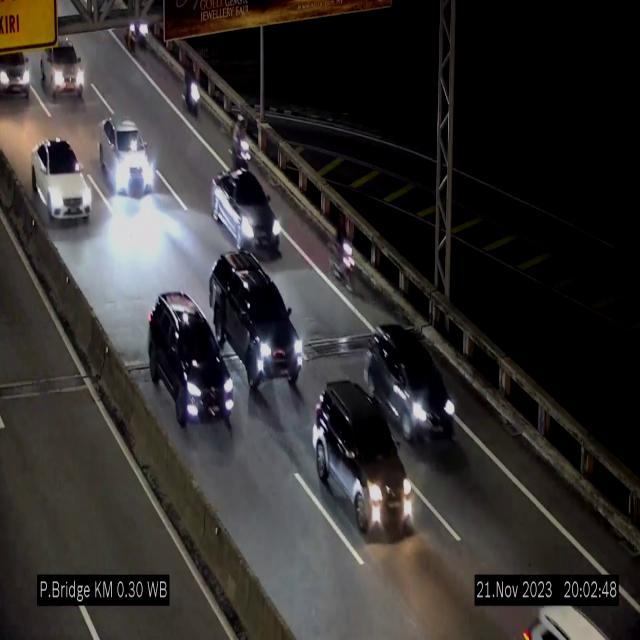Car: (312, 380, 416, 540), (146, 292, 236, 438), (210, 252, 304, 388), (364, 325, 466, 442), (209, 162, 280, 268), (35, 17, 92, 109), (32, 138, 92, 220), (100, 116, 156, 194), (0, 31, 40, 110)
Motorcycle: (329, 212, 357, 294), (227, 108, 257, 178), (183, 59, 200, 117)
